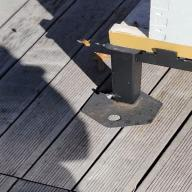Bee: (71, 37, 99, 49)
